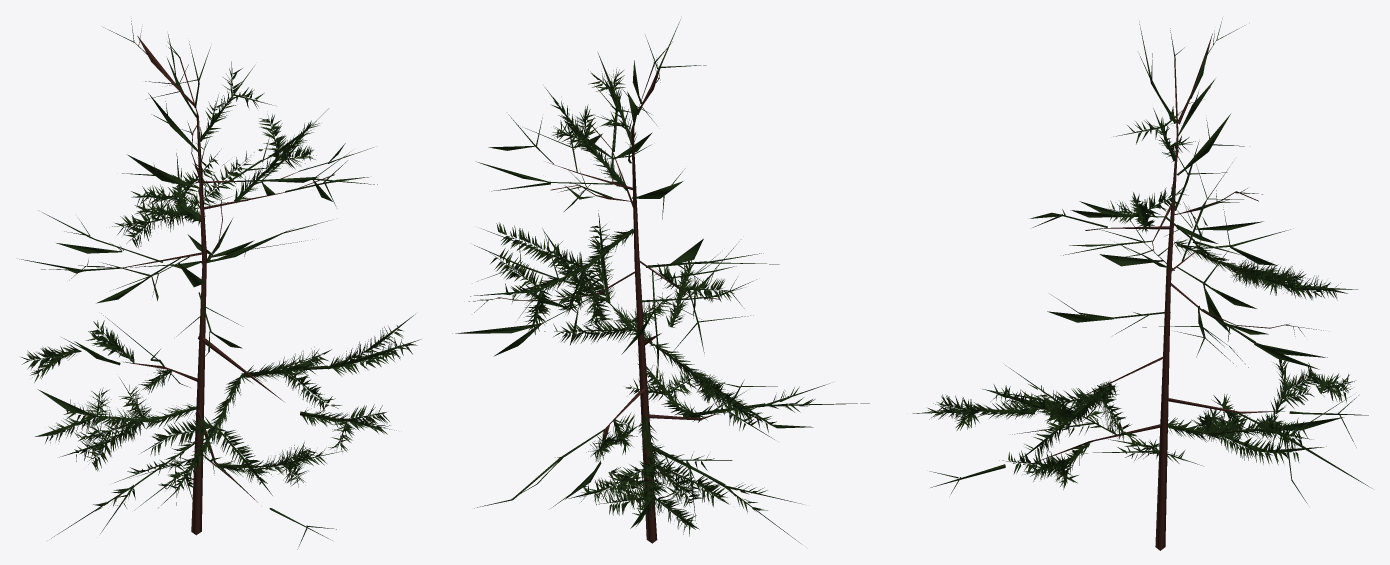
The model's file is sapling_b_lod1.obj.
3 views of the same model, side by side, from view 1: azimuth 30°, elevation 25°; view 2: azimuth 150°, elevation 25°; view 3: azimuth 270°, elevation 25° (orthographic). The views are drawn at different scales.
Visible parts, largest first — view 1: sapling_b_lod1; view 2: sapling_b_lod1; view 3: sapling_b_lod1.
Part boxes in pixels (x1=…): sapling_b_lod1: x1=19, y1=18, x2=421, y2=549; sapling_b_lod1: x1=452, y1=19, x2=869, y2=543; sapling_b_lod1: x1=912, y1=18, x2=1372, y2=550.
Size of the model in its own units: 23.74 by 36.34 by 29.59.
